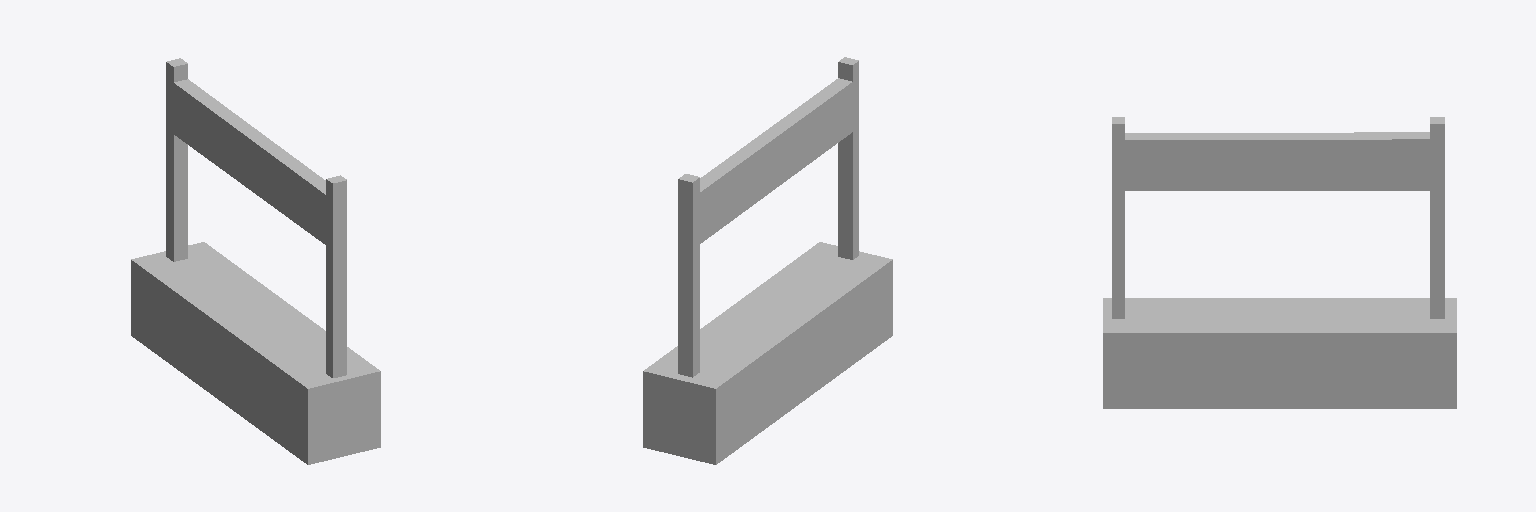
The model's file is shop.obj.
The picture shows the model from 3 angles: view 1: azimuth 30°, elevation 25°; view 2: azimuth 150°, elevation 25°; view 3: azimuth 270°, elevation 25°; orthographic projection.
Visible parts, largest first — view 1: pCube1; view 2: pCube1; view 3: pCube1.
Boxes of the visible parts, x1,y1,x2,y2 form: pCube1: [131, 58, 380, 464]; pCube1: [643, 57, 892, 464]; pCube1: [1103, 117, 1456, 408].
Bounding box in the file's own units: 1 × 3.55 × 4.2.